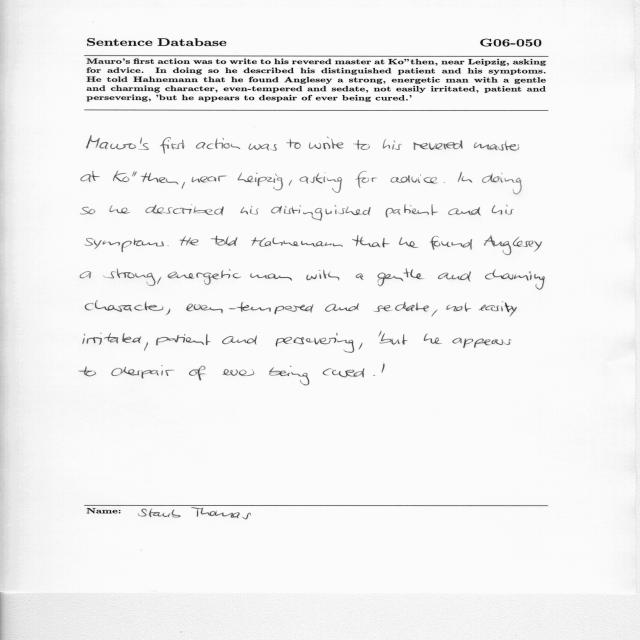word: (271, 205, 371, 221), (276, 333, 354, 353), (186, 302, 314, 314), (485, 269, 545, 290), (167, 269, 241, 285), (85, 238, 164, 252), (484, 236, 542, 255), (104, 268, 156, 286), (86, 300, 164, 312), (87, 135, 149, 150), (252, 237, 343, 247), (111, 365, 175, 379), (300, 172, 342, 193), (145, 205, 224, 216), (113, 171, 178, 184), (482, 173, 522, 194), (237, 173, 283, 191), (378, 269, 424, 286), (269, 366, 309, 385), (83, 333, 141, 345), (386, 205, 439, 218), (156, 334, 211, 345), (452, 338, 511, 348), (430, 236, 472, 250), (479, 301, 517, 316), (374, 302, 429, 312), (413, 140, 463, 150), (196, 138, 240, 149), (352, 235, 390, 247), (390, 175, 438, 184), (160, 137, 185, 154), (309, 137, 344, 149), (323, 368, 365, 378), (474, 142, 519, 151), (438, 271, 471, 282), (356, 171, 377, 188), (306, 270, 340, 280), (250, 273, 292, 281), (380, 333, 408, 345), (222, 336, 257, 345), (325, 303, 359, 312), (448, 207, 481, 216), (211, 236, 237, 246), (192, 176, 227, 183), (189, 366, 205, 381), (447, 303, 472, 312), (222, 369, 254, 376), (492, 205, 514, 215), (383, 139, 402, 150), (81, 171, 100, 182), (399, 237, 418, 248), (248, 144, 277, 151), (109, 205, 131, 214), (424, 334, 442, 344), (180, 237, 199, 246), (353, 140, 370, 150), (458, 172, 472, 183), (79, 367, 96, 376), (240, 206, 259, 214), (286, 139, 301, 149), (81, 207, 95, 215), (80, 271, 91, 278), (356, 273, 364, 280), (144, 342, 148, 351), (432, 310, 437, 317), (158, 277, 162, 284), (359, 343, 363, 350), (382, 364, 385, 373), (166, 309, 170, 315), (378, 331, 382, 337), (182, 182, 185, 189), (289, 180, 292, 186), (373, 375, 375, 376), (444, 182, 445, 183), (168, 246, 169, 246)
